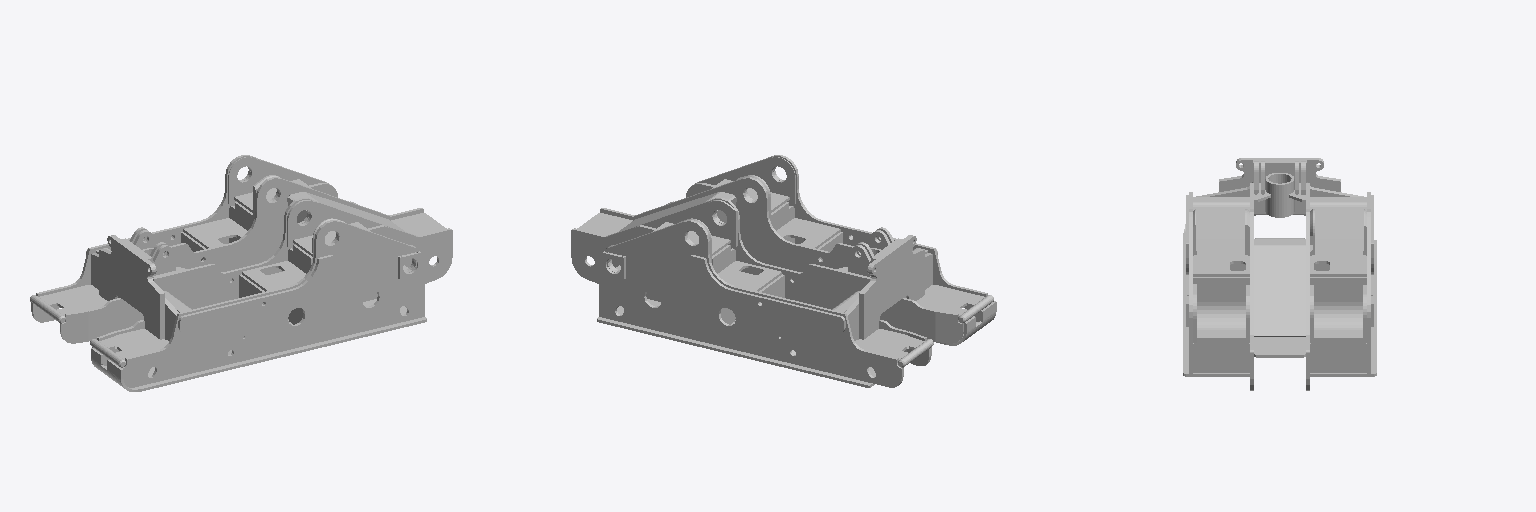
The picture shows the model from 3 angles: view 1: azimuth 30°, elevation 25°; view 2: azimuth 150°, elevation 25°; view 3: azimuth 270°, elevation 25°; orthographic projection.
Parts seen in each view (by area): view 1: 底座总装配体; view 2: 底座总装配体; view 3: 底座总装配体.
Part boxes in pixels (bbox=[...]): 底座总装配体: bbox=[30, 155, 452, 391]; 底座总装配体: bbox=[571, 155, 996, 387]; 底座总装配体: bbox=[1183, 158, 1376, 390].
Bounding box in the file's own units: 7.94 × 2.52 × 3.68.